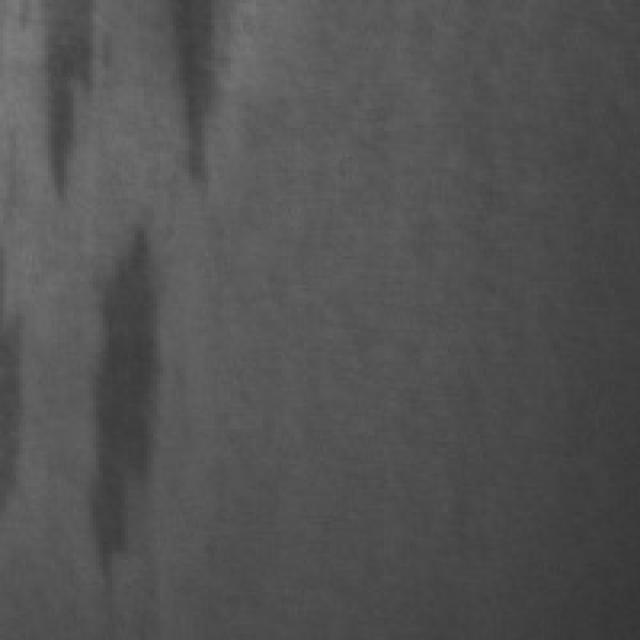inclusion: (74, 202, 163, 598), (16, 0, 112, 208), (160, 0, 224, 198)
